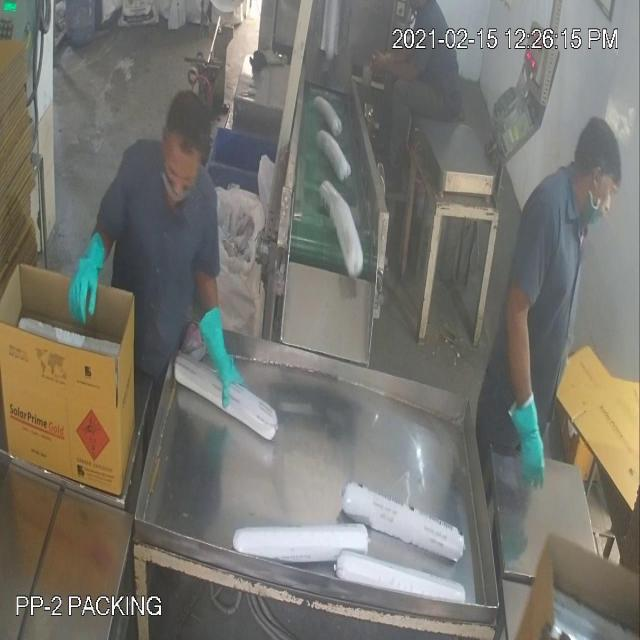Gloves: (38, 50, 527, 432)
